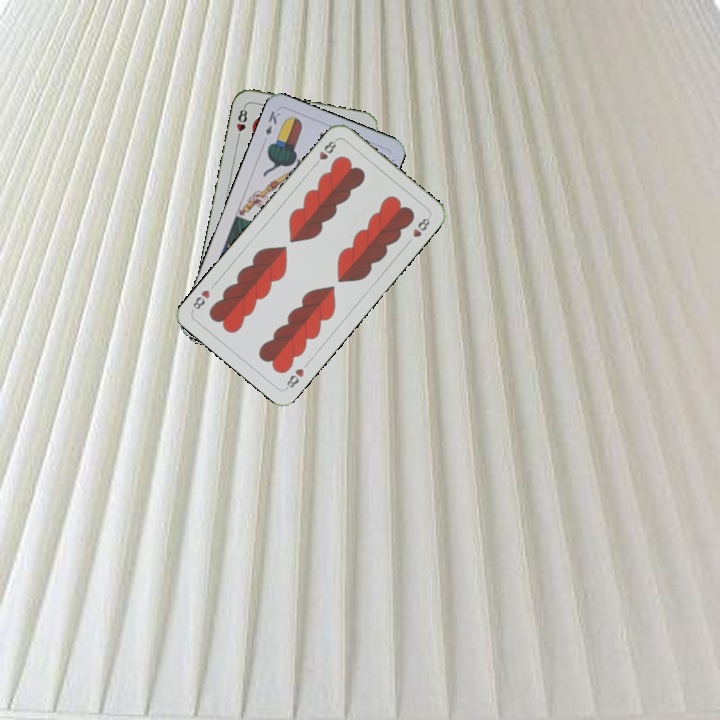EK: (261, 107, 283, 138)
H8: (309, 135, 339, 170), (281, 364, 307, 392), (232, 103, 250, 143)
